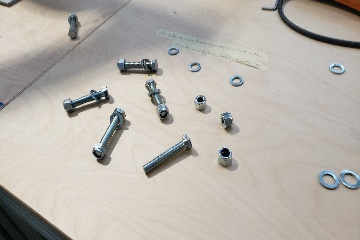Bolt: (139, 134, 196, 176)
FalseAssembly: (89, 107, 129, 161), (60, 86, 110, 114), (62, 11, 82, 41)
FinishedAssembly: (143, 79, 171, 123), (114, 58, 160, 75)
Nut: (215, 145, 235, 168), (193, 94, 209, 111), (220, 111, 233, 131)
Washer: (317, 168, 339, 192), (339, 169, 360, 191), (328, 63, 347, 75), (187, 60, 202, 75), (228, 74, 244, 87), (166, 45, 181, 56)
